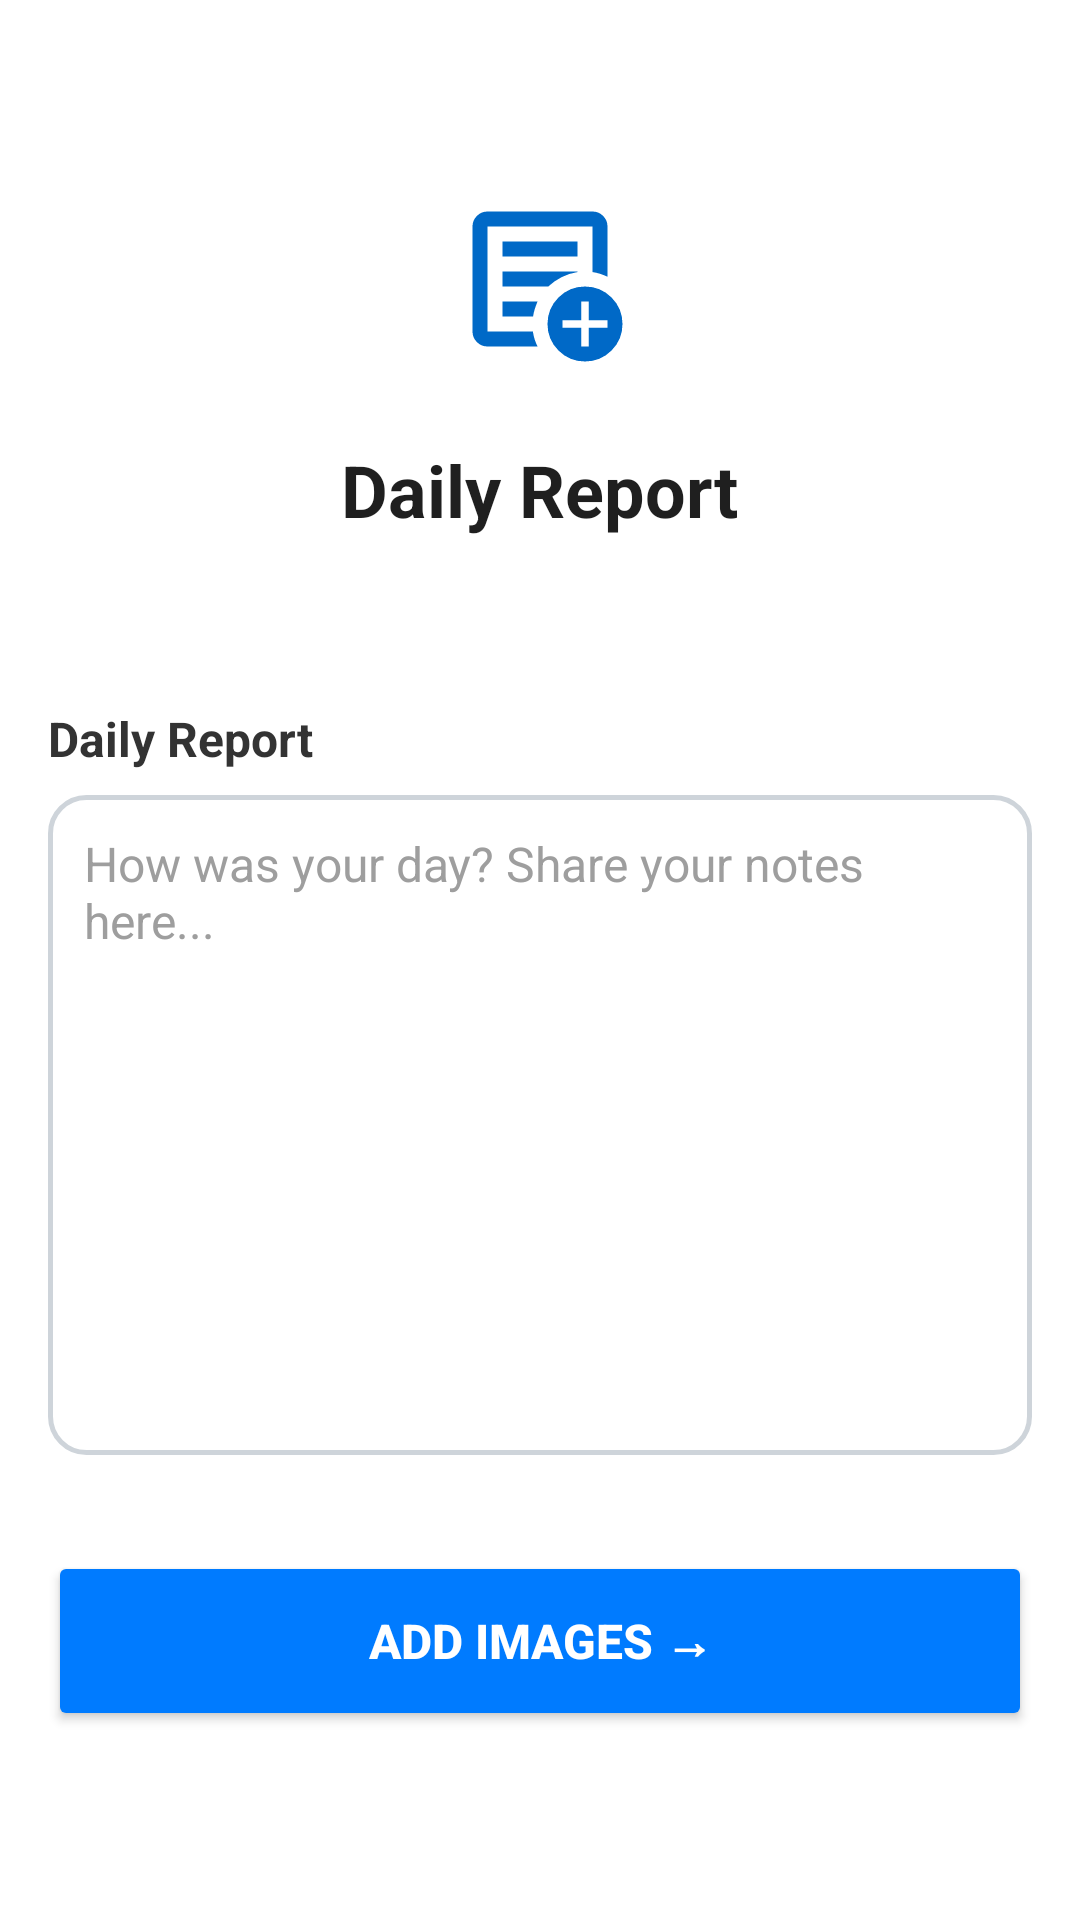

Locate icon controls on the screen. Image size 1080x1920, boxes as (x1, y1, x2, y2).
note: (472, 211, 623, 362)
